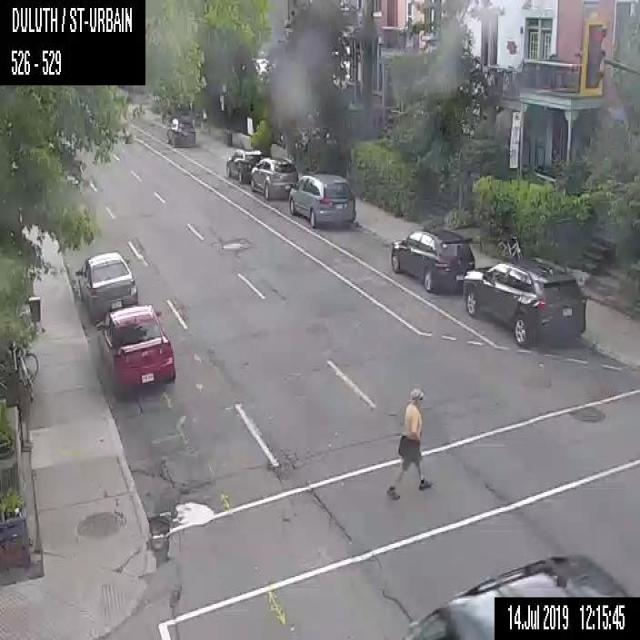pedestrian: (387, 385, 434, 500)
vehicle: (401, 545, 632, 639), (462, 257, 586, 344), (95, 303, 174, 387), (390, 227, 475, 292), (74, 251, 138, 316), (288, 174, 357, 228), (250, 156, 299, 198), (225, 148, 262, 182), (166, 115, 196, 146)
